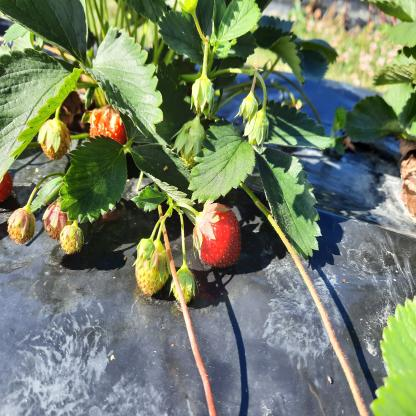ripe: (194, 208, 244, 271), (89, 106, 126, 156)
unripe: (135, 243, 169, 295), (36, 118, 68, 158), (8, 206, 35, 244), (176, 272, 194, 302)
